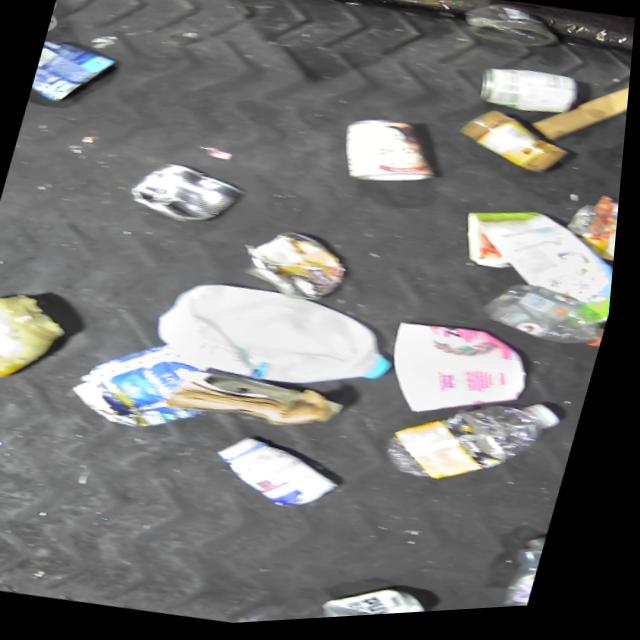can: (238, 224, 363, 315), (331, 112, 457, 202), (124, 154, 255, 237), (471, 64, 587, 131), (28, 36, 122, 115), (326, 579, 443, 623), (568, 198, 624, 256)
milk_jug: (146, 266, 418, 414)
plastic_bottle: (382, 381, 574, 509), (479, 279, 618, 363)
